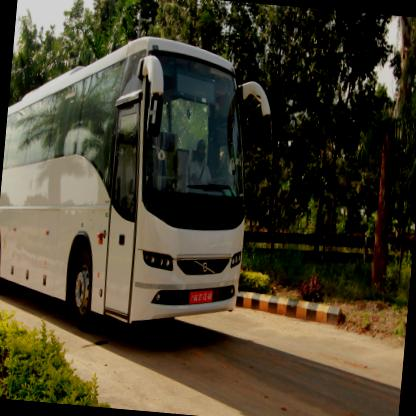bus: (275, 27, 398, 250)
